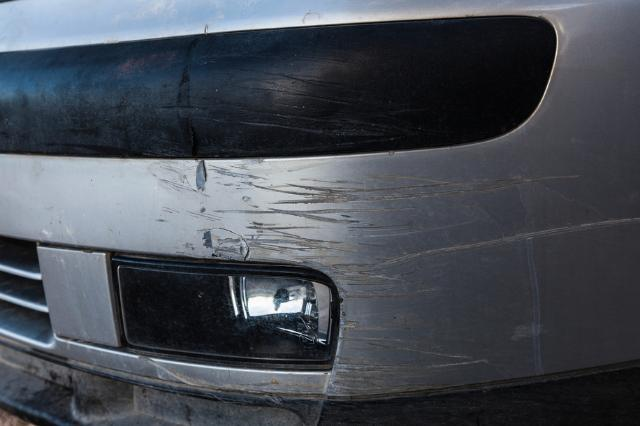Bumper: (62, 166, 640, 419)
